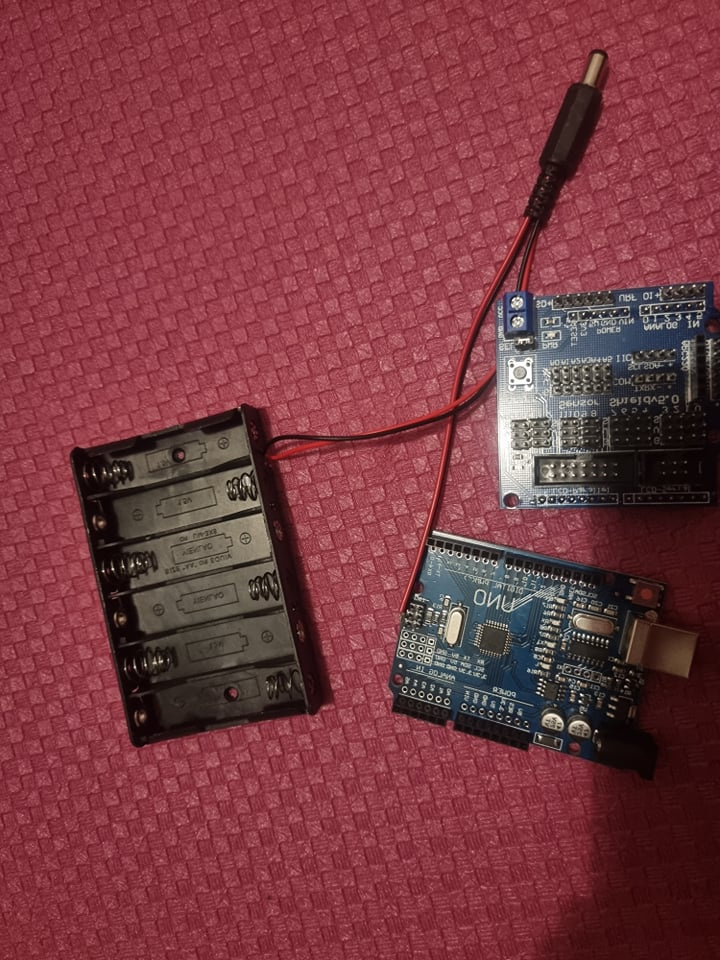5V EXPANSION: (498, 279, 717, 513)
BATTERY BOX: (65, 405, 331, 746)
UNO R3: (392, 529, 694, 776)
